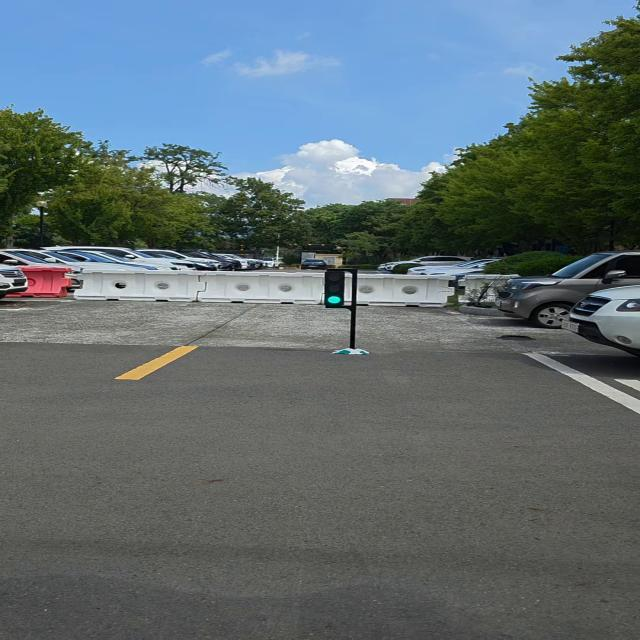green: (320, 268, 351, 311)
